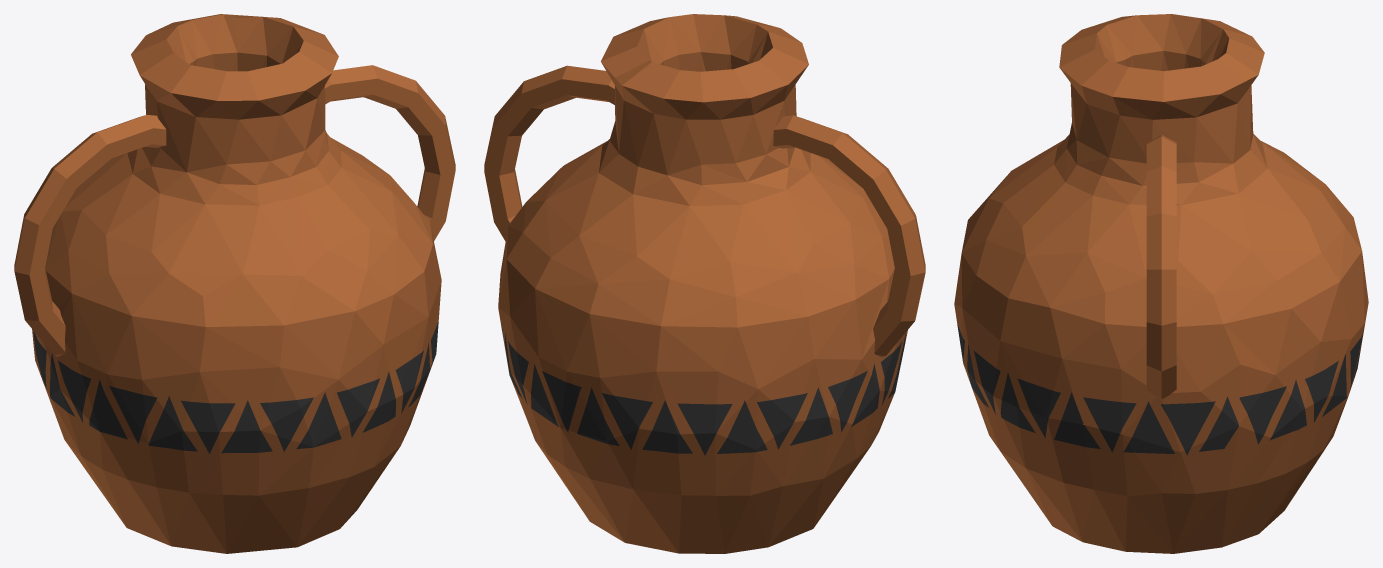
The model's file is Pottery 21_2b.fbx.
The picture shows the model from 3 angles, left to right: view 1: azimuth 30°, elevation 25°; view 2: azimuth 150°, elevation 25°; view 3: azimuth 270°, elevation 25°; orthographic projection.
Visible parts, largest first — view 1: Pottery 21_2b.006, Pottery 21_2b.001, Pottery 21_2b, Pottery 21_2b.002, Pottery 21_2b.004, Pottery 21_2b.003; view 2: Pottery 21_2b.006, Pottery 21_2b.003, Pottery 21_2b.005, Pottery 21_2b, Pottery 21_2b.002, Pottery 21_2b.001; view 3: Pottery 21_2b.002, Pottery 21_2b.004, Pottery 21_2b.003, Pottery 21_2b, Pottery 21_2b.005, Pottery 21_2b.001, Pottery 21_2b.006.
Part boxes in pixels (box(x1,y1,x2,y2)): Pottery 21_2b.006: box(14, 26, 226, 442); Pottery 21_2b.001: box(200, 52, 393, 446); Pottery 21_2b: box(36, 364, 400, 553); Pottery 21_2b.002: box(234, 15, 455, 243); Pottery 21_2b.004: box(368, 224, 441, 466); Pottery 21_2b.003: box(147, 14, 239, 71); Pottery 21_2b.006: box(700, 31, 925, 423); Pottery 21_2b.003: box(506, 60, 737, 377); Pottery 21_2b.005: box(498, 260, 795, 489); Pottery 21_2b: box(552, 390, 894, 553); Pottery 21_2b.002: box(484, 14, 703, 305); Pottery 21_2b.001: box(693, 14, 835, 165); Pottery 21_2b.002: box(1022, 59, 1290, 473); Pottery 21_2b.004: box(962, 227, 1122, 489); Pottery 21_2b.003: box(1205, 29, 1368, 341); Pottery 21_2b: box(964, 367, 1324, 553); Pottery 21_2b.005: box(1208, 307, 1367, 500); Pottery 21_2b.001: box(954, 25, 1124, 362); Pottery 21_2b.006: box(1082, 14, 1283, 152).
Size of the model in its own units: 65.52 by 65.32 by 53.29.
